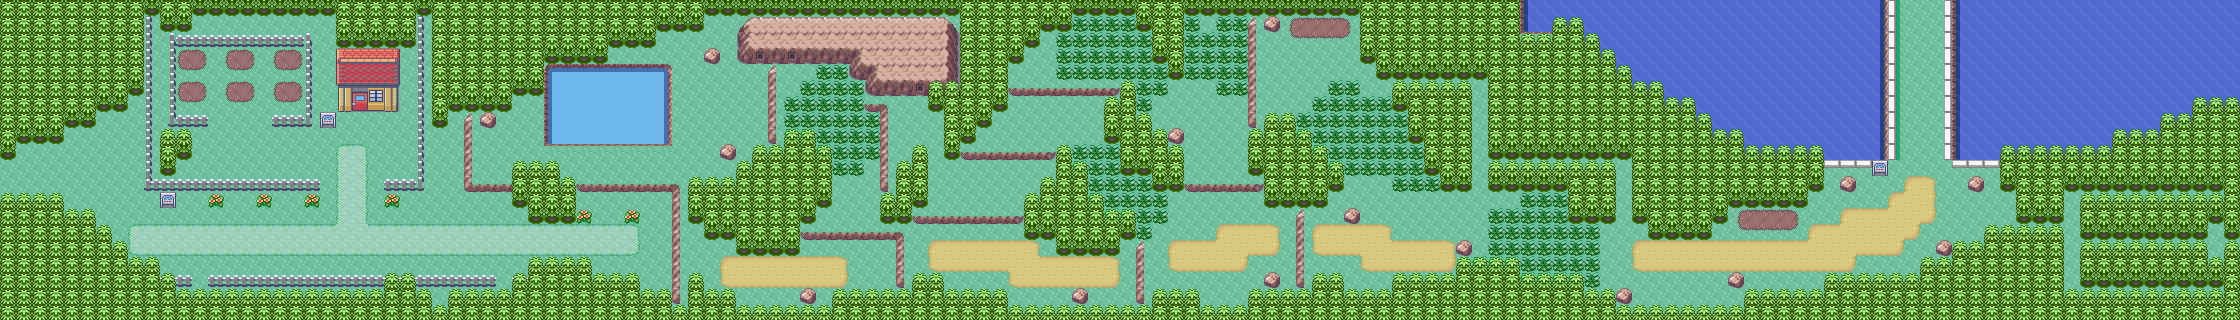normal_house: (334, 46, 403, 114)
